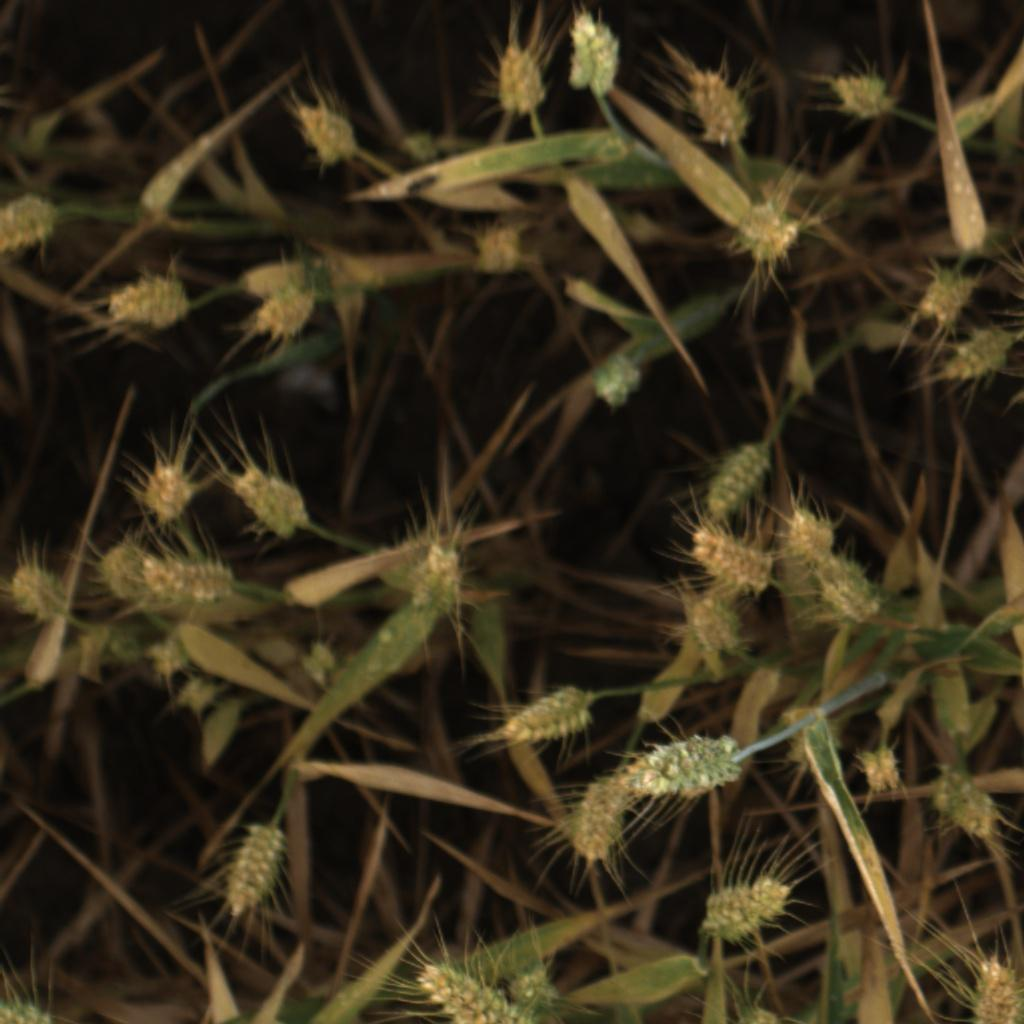0-0: (626, 724, 740, 800), (490, 673, 593, 749), (702, 871, 804, 944), (410, 957, 519, 1024), (698, 433, 775, 527), (569, 767, 640, 868), (681, 62, 760, 148), (561, 5, 630, 103), (222, 814, 283, 924), (679, 528, 778, 594), (724, 198, 811, 273), (232, 461, 314, 540), (141, 546, 241, 610), (482, 38, 555, 123), (100, 268, 191, 334), (289, 93, 362, 168), (911, 261, 984, 334), (814, 550, 880, 630), (943, 318, 1016, 389), (401, 542, 469, 618), (935, 772, 1005, 845), (11, 550, 75, 628), (681, 592, 748, 663), (243, 281, 319, 343), (581, 348, 651, 415), (823, 60, 896, 123), (129, 457, 199, 520), (2, 187, 62, 259), (91, 536, 151, 606), (845, 740, 914, 800), (781, 497, 840, 564), (506, 952, 567, 1016), (468, 221, 530, 282), (140, 633, 192, 680)
